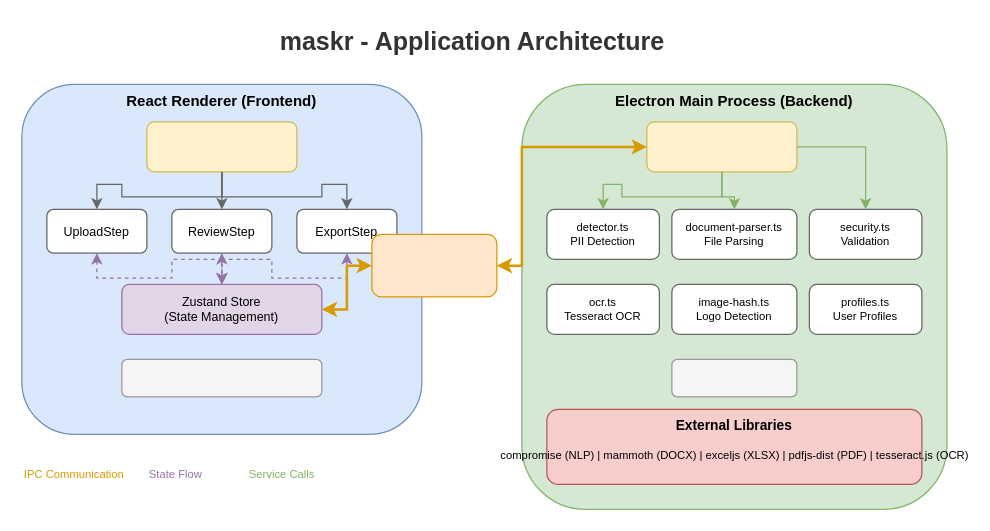
The diagram is 990 pixels wide and 531 high, and some of its shapes have lost their labels. Each missing label, with the centre of its shape:
"App.tsx (Step Navigation)" belongs at point (221, 146).
"logger.ts" belongs at point (734, 377).
"main.ts (IPC Handlers)" belongs at point (721, 146).
"preload.ts (IPC Bridge)" belongs at point (434, 265).
"shadcn/ui Components" belongs at point (221, 377).
